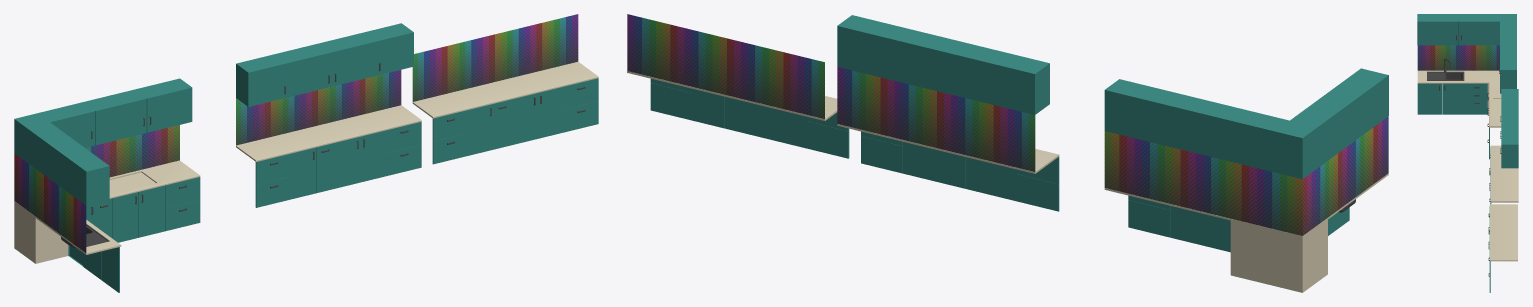
The model's file is Kitchen-Splashback.glb.
The picture shows the model from 3 angles, left to right: view 1: azimuth 30°, elevation 25°; view 2: azimuth 150°, elevation 25°; view 3: azimuth 270°, elevation 25°; orthographic projection. The views are drawn at different scales.
Parts seen in each view (by area): view 1: Kitchen_splashback1, Kitchen_splashback2, Kitchen_splashback3, main_change3, main_change, main_change2; view 2: Kitchen_splashback1, Kitchen_splashback2, main_change, main_change2, main_change3, Kitchen_splashback3; view 3: Kitchen_splashback1, Kitchen_splashback2, main_change, Kitchen_splashback3.
Part boxes in pixels (x1,y1,x2,y2): Kitchen_splashback1: (14,78,200,292); Kitchen_splashback2: (236,23,421,207); Kitchen_splashback3: (412,61,598,164); main_change3: (412,14,578,101); main_change: (14,125,179,252); main_change2: (236,70,401,145); Kitchen_splashback1: (1104,68,1388,292); Kitchen_splashback2: (837,15,1059,211); main_change: (1104,116,1388,235); main_change2: (837,67,1035,171); main_change3: (627,14,824,118); Kitchen_splashback3: (627,71,849,158); Kitchen_splashback1: (1417,14,1516,159); Kitchen_splashback2: (1489,89,1518,217); main_change: (1417,45,1499,70); Kitchen_splashback3: (1488,204,1517,292).
Bounding box in the file's own units: 9.65 × 2.12 × 2.17.
12 materials, 3 textured.
